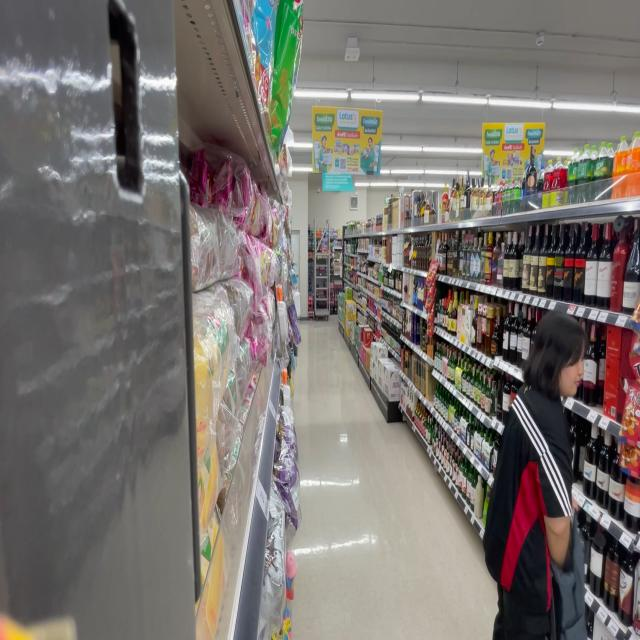shoplifting: (486, 314, 592, 640)
